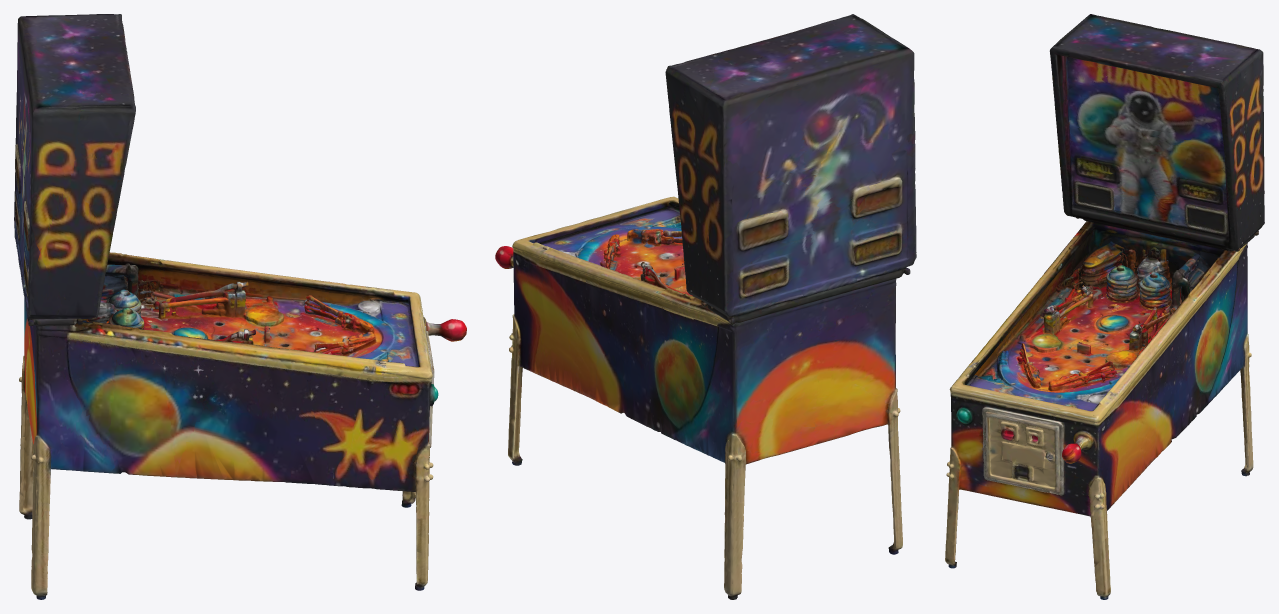
The model's file is pinball.glb.
3 views of the same model, side by side, from view 1: azimuth 30°, elevation 25°; view 2: azimuth 150°, elevation 25°; view 3: azimuth 270°, elevation 25° (orthographic). The views are drawn at different scales.
Parts seen in each view (by area): view 1: Object_4; view 2: Object_4; view 3: Object_4.
Boxes of the visible parts, x1=… form: Object_4: x1=14, y1=14, x2=466, y2=599; Object_4: x1=495, y1=14, x2=916, y2=599; Object_4: x1=945, y1=14, x2=1264, y2=599.
Bounding box in the file's own units: 1.71 × 1.9 × 1.3.
Materials: 1 (1 with a texture image).
